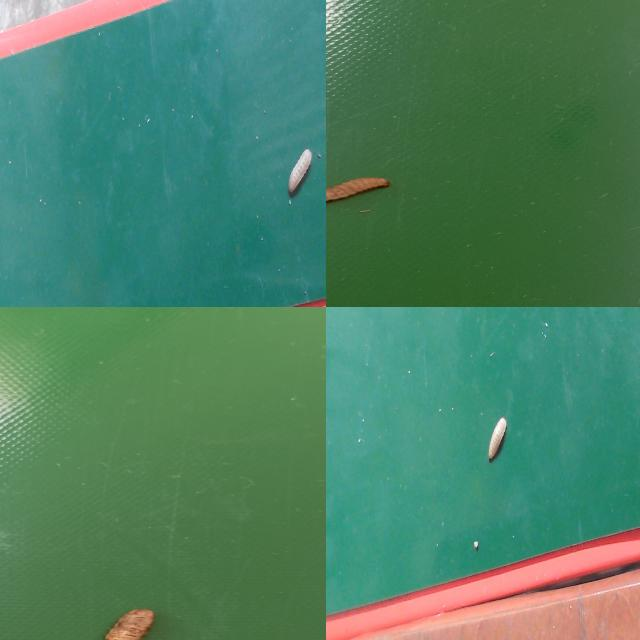Maggot: (326, 178, 390, 206), (101, 609, 156, 640), (287, 149, 314, 201), (486, 418, 508, 463)
